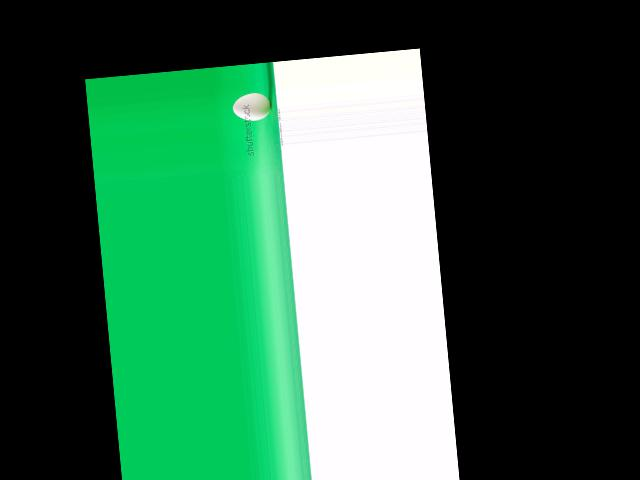egg: (231, 91, 273, 122)
